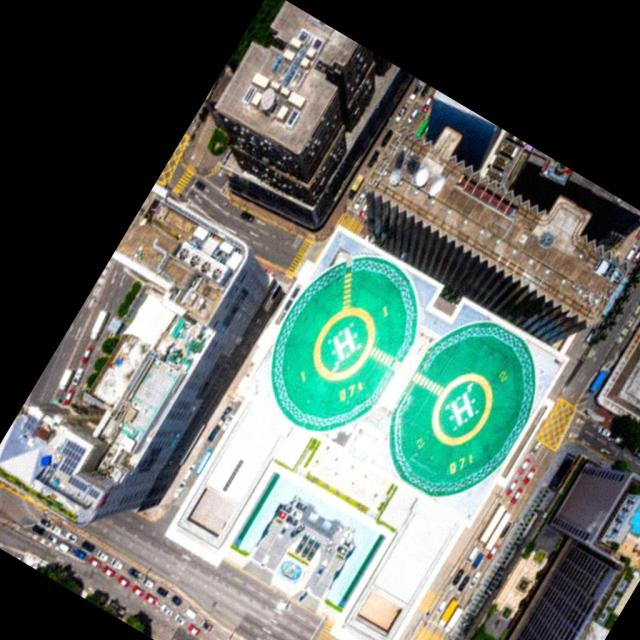helipad: (311, 304, 378, 385), (429, 372, 494, 447)
